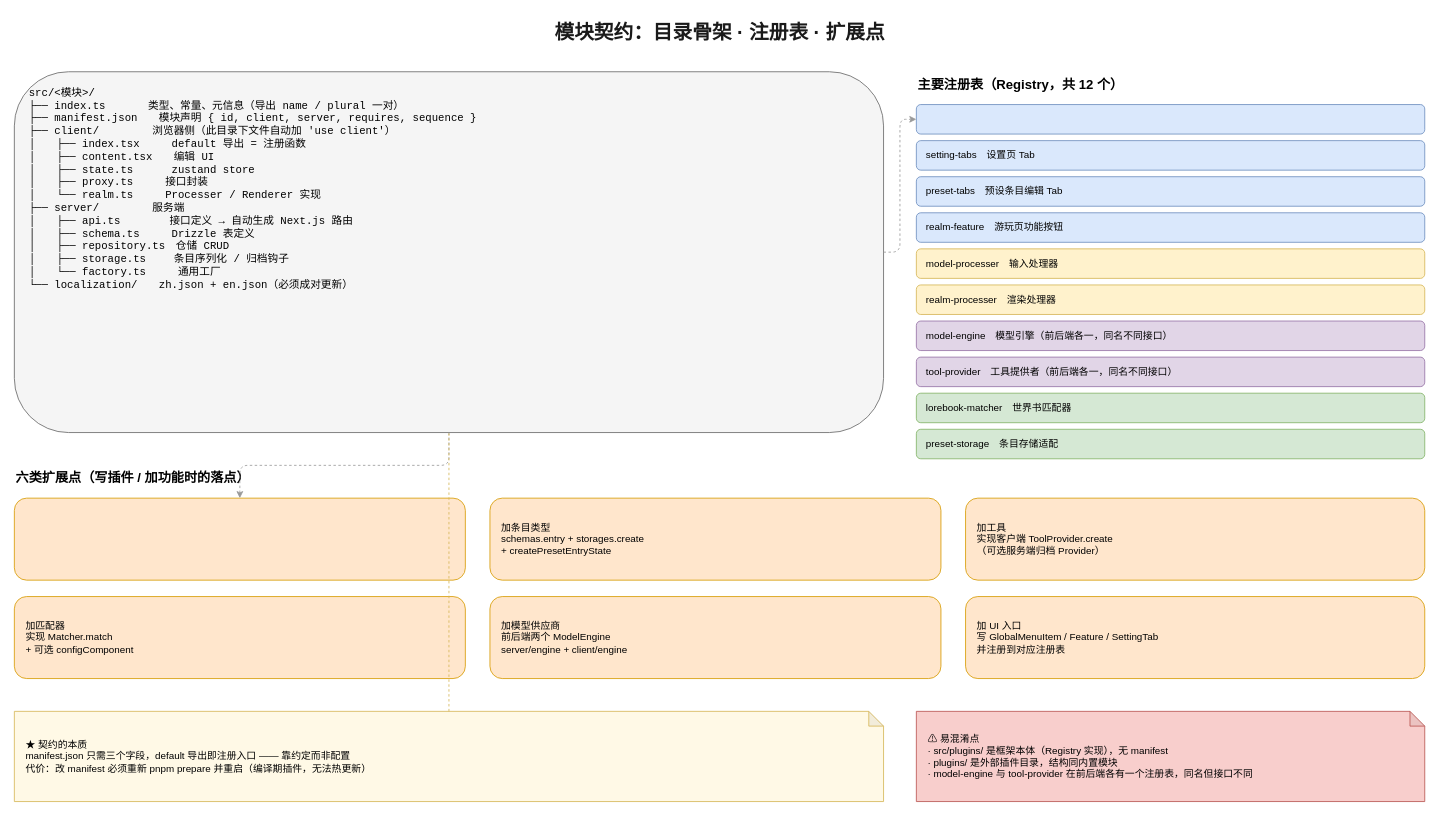
Some shapes in this 1439 by 816 pixel diagram are drawn without their labels. The shapes that lost their labels are listed below. From the top down, each one's box as (x1, y1, x2, y2) in pixels, then its label:
(916, 104, 1425, 134): global-menu 侧边栏菜单
(14, 497, 465, 580): 加模块 建目录 + manifest.json → pnpm prepare + 重启
